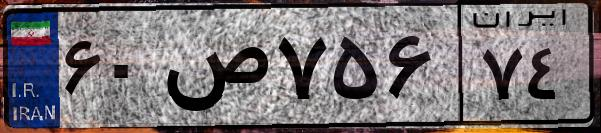0: (110, 28, 158, 98)
4: (525, 38, 570, 115)
5: (330, 28, 385, 110)
6: (385, 28, 445, 110), (57, 26, 110, 100)
7: (270, 28, 330, 110), (475, 38, 525, 113)
ص: (158, 20, 270, 120)
